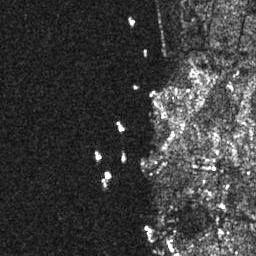ship: (115, 120, 127, 133), (93, 150, 103, 161), (100, 177, 109, 188), (127, 15, 135, 26), (121, 152, 127, 163), (143, 48, 150, 57)
